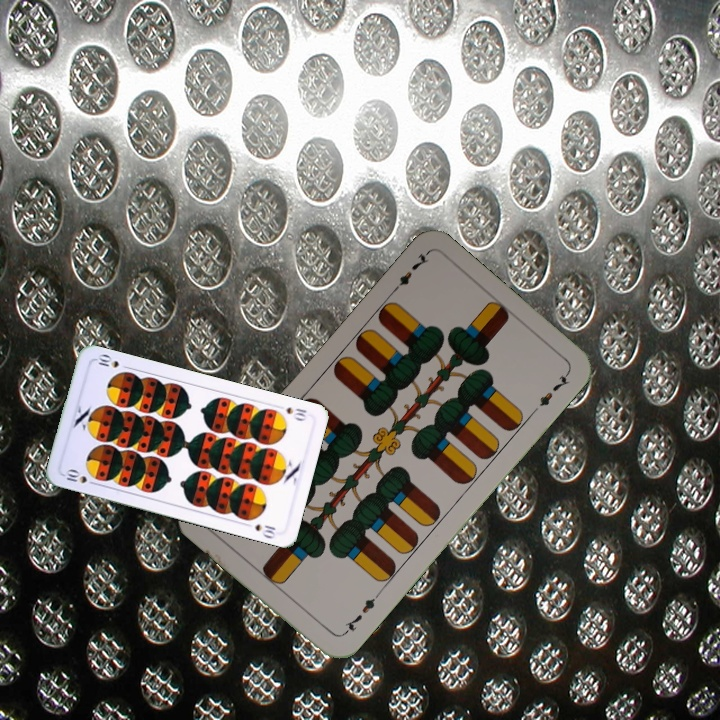E7: (386, 249, 432, 297), (338, 590, 382, 638)
S10: (60, 466, 100, 488), (281, 403, 310, 423)
